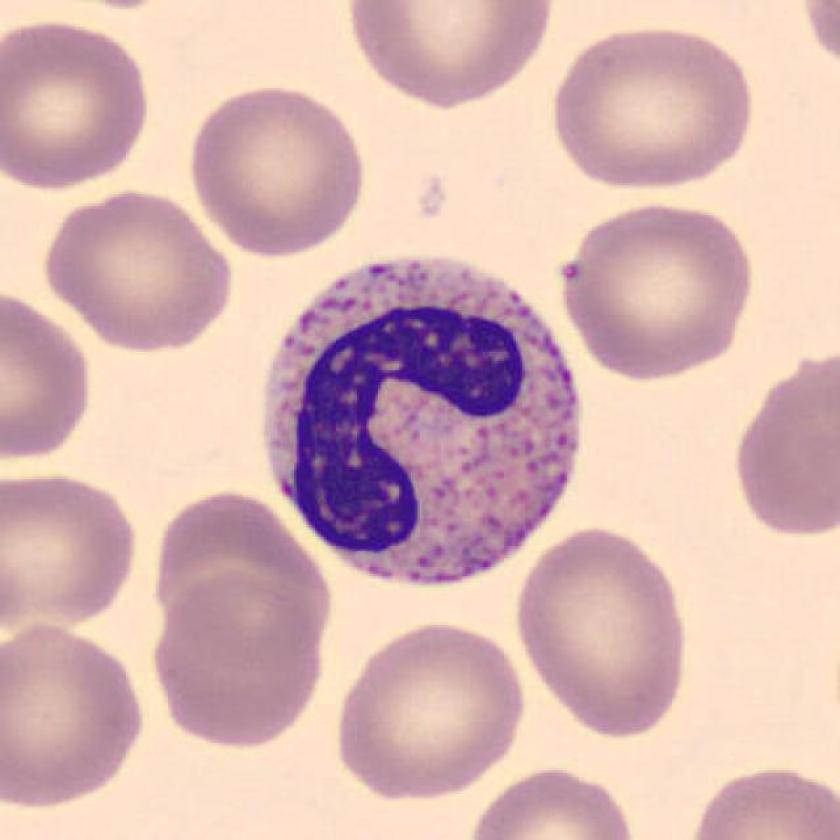neutrophil: (262, 256, 584, 585)
